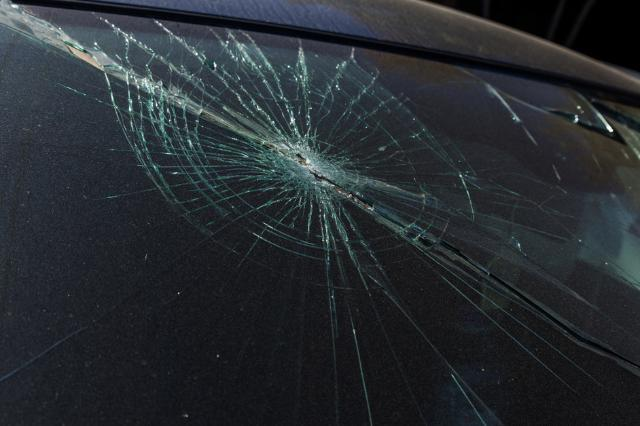Windshield: (0, 0, 640, 421)
